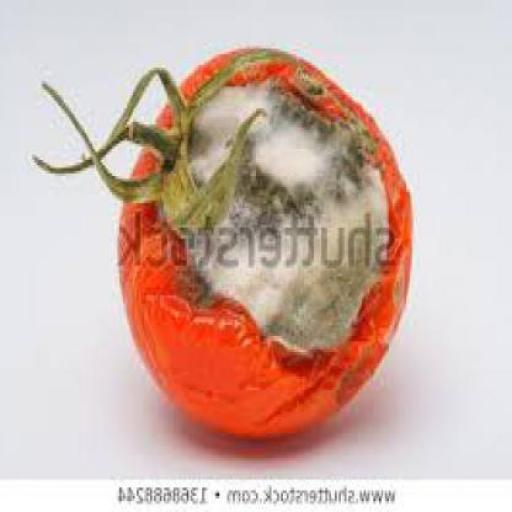biodegradable: (37, 43, 413, 439)
